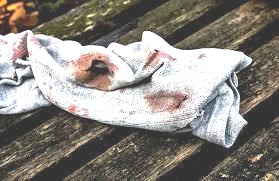blood: (74, 54, 116, 90), (142, 90, 187, 112), (145, 48, 174, 67), (10, 39, 29, 60)
